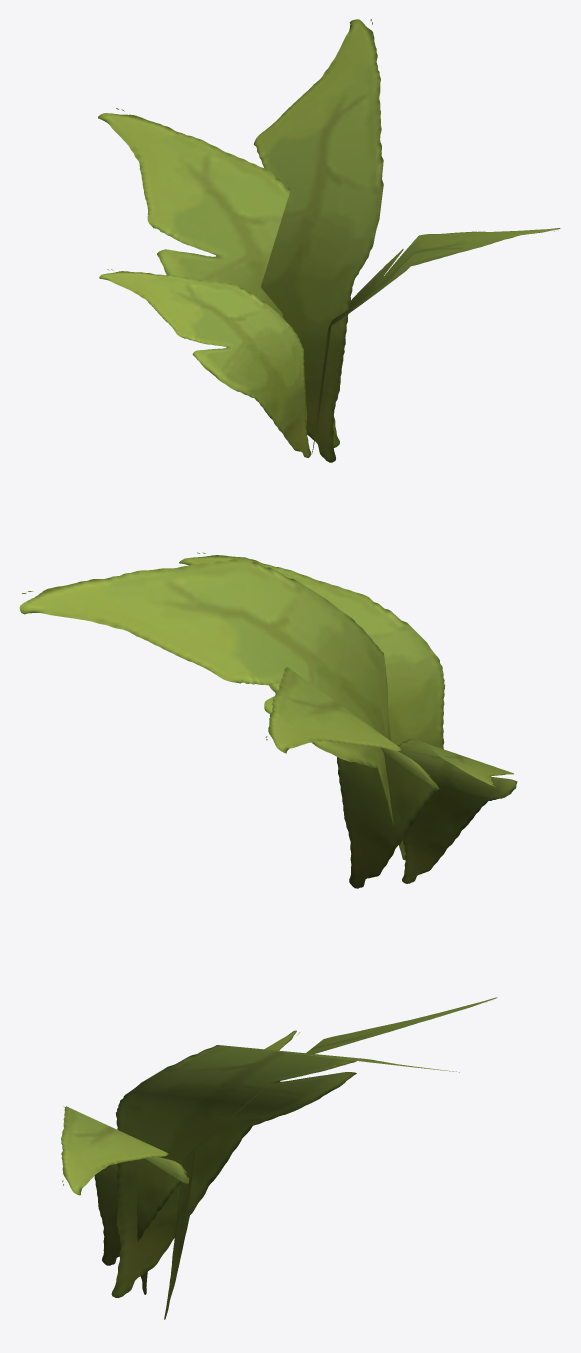
File: TYJ_CaoM_03.fbx
3 views of the same model, one above another, from view 1: azimuth 30°, elevation 25°; view 2: azimuth 150°, elevation 25°; view 3: azimuth 270°, elevation 25° (orthographic). The views are drawn at different scales.
Visible parts, largest first — view 1: TYJ_CaoM_03; view 2: TYJ_CaoM_03; view 3: TYJ_CaoM_03.
Part boxes in pixels (x1,y1,x2,y2): TYJ_CaoM_03: (98,19,560,462); TYJ_CaoM_03: (19,552,517,888); TYJ_CaoM_03: (61,997,497,1319).
Bounding box in the file's own units: 207 × 152 × 196.
